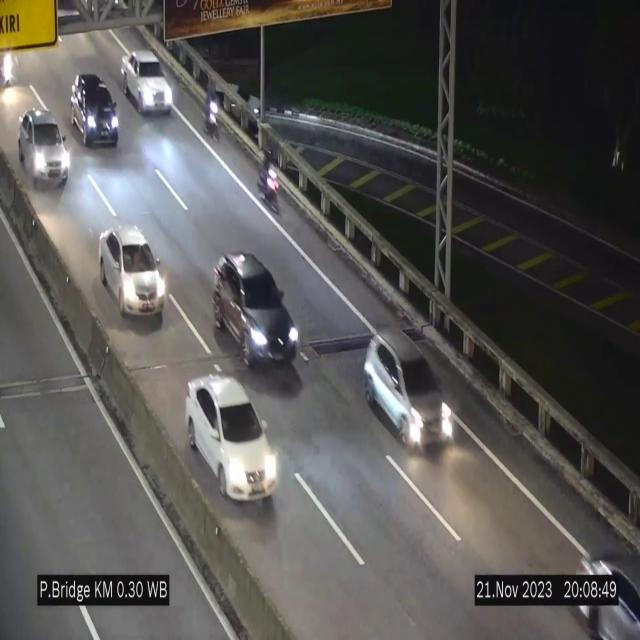Car: (185, 375, 279, 501), (213, 252, 300, 376), (362, 331, 454, 447), (571, 528, 640, 640), (99, 227, 165, 321), (18, 108, 76, 188), (71, 74, 119, 146), (120, 50, 173, 114)
Motorcycle: (259, 150, 283, 222), (199, 79, 223, 143)
